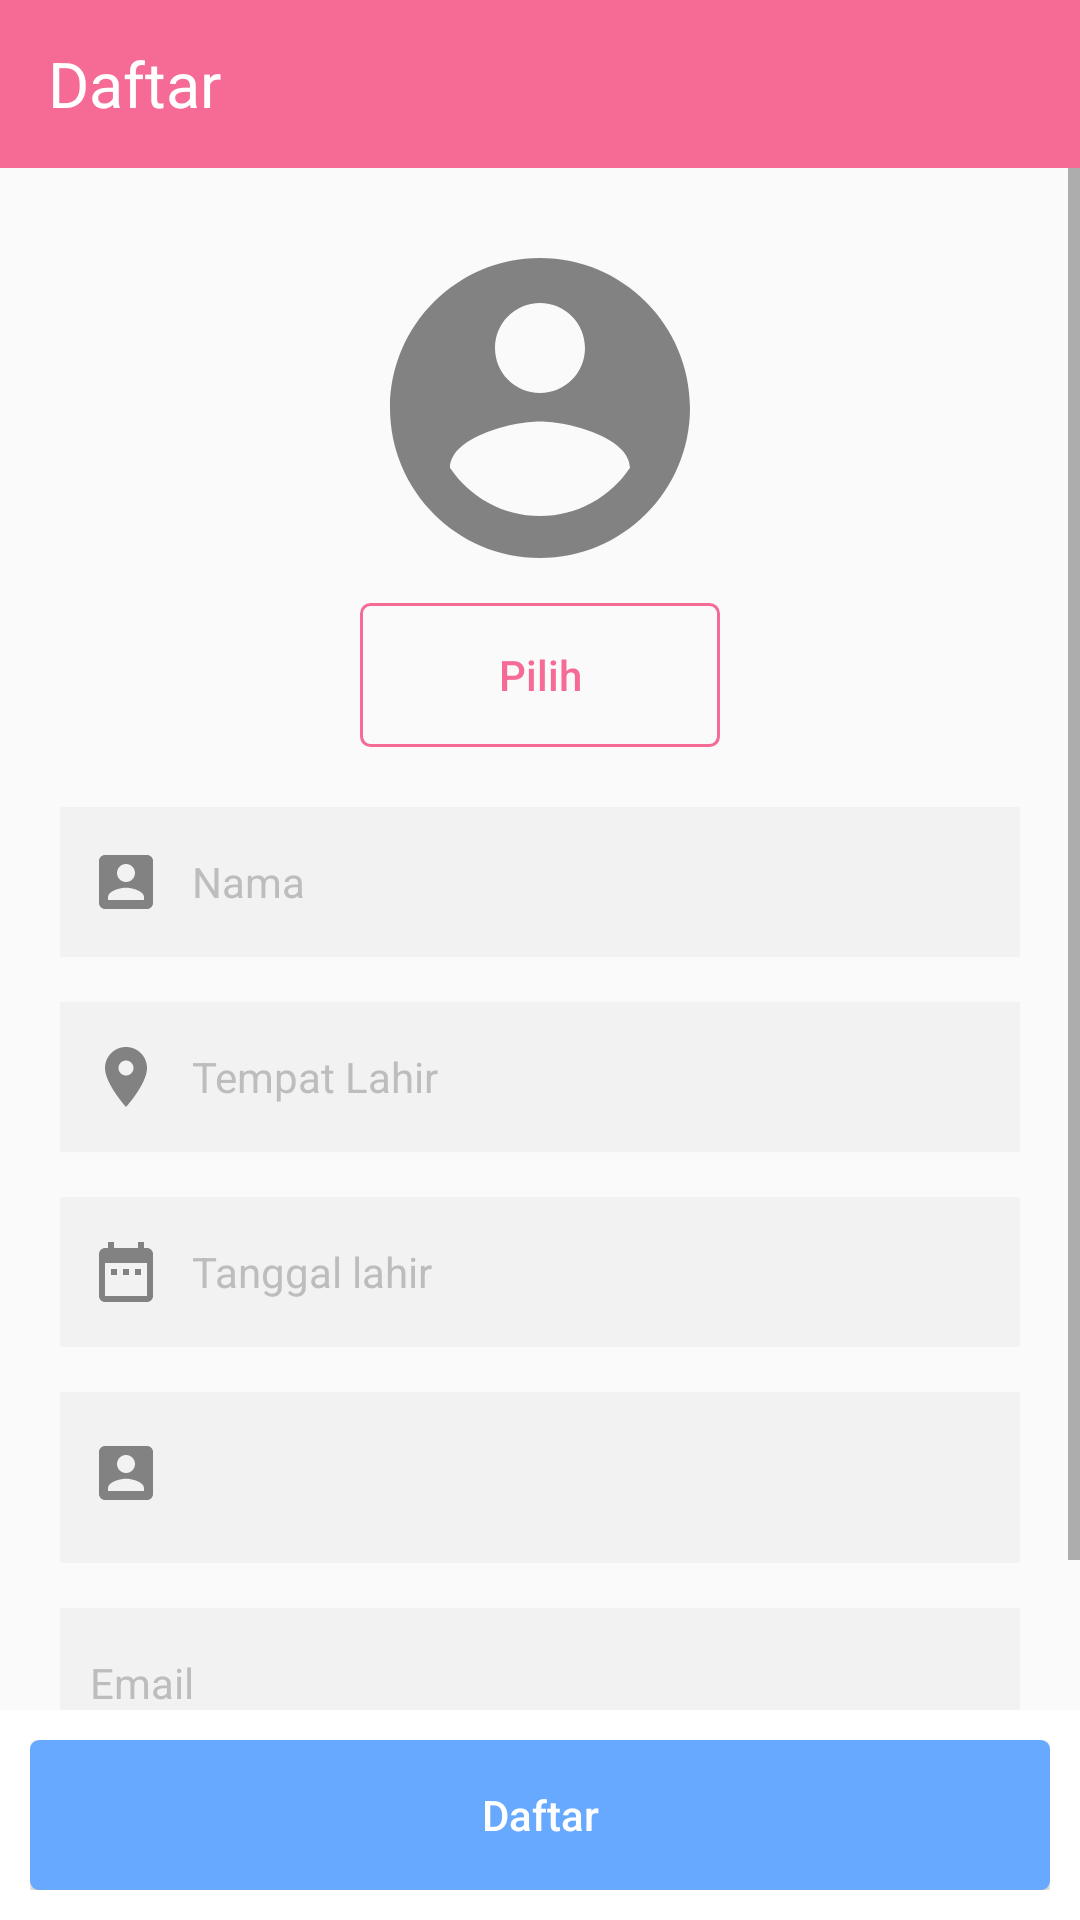

Icons on this 1080w x 1920h Android screen, each with its box as (x1, y1, x2, y2):
account circle: (390, 258, 690, 558)
